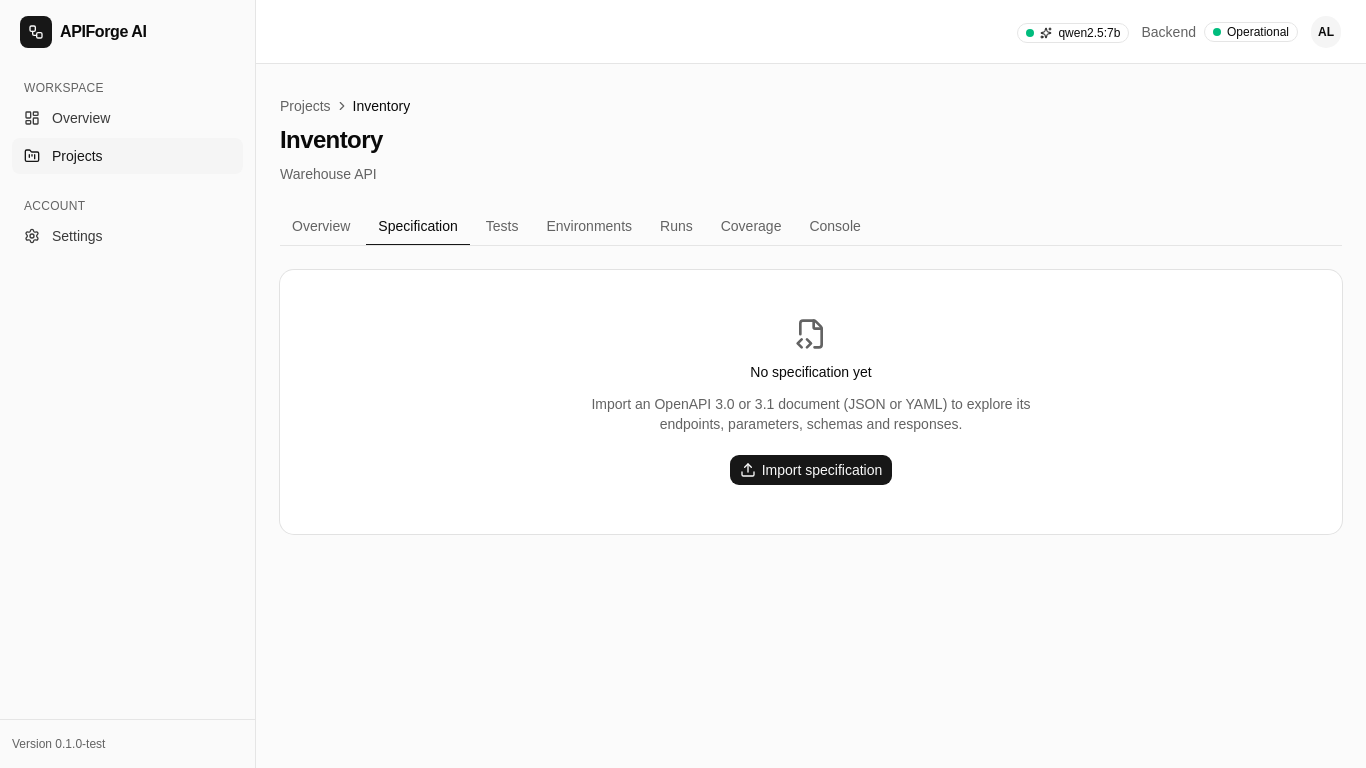
Specification import › shows unexpected failures instead of failing silently
The width and height of the screenshot is (1366, 768).
Click the button "Import specification" at (811, 470), box [729, 454, 893, 486]
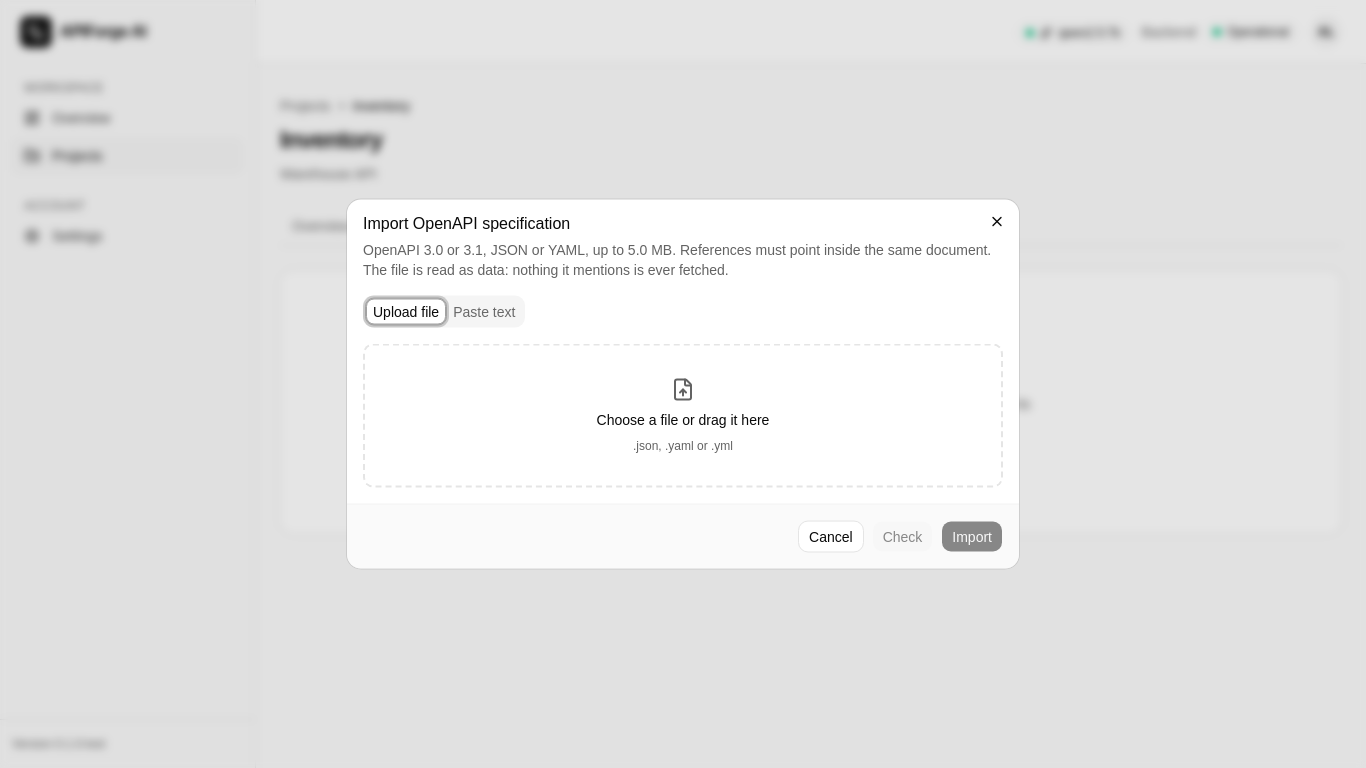
Click the tab "Paste text" at (484, 312), box [446, 298, 522, 324]
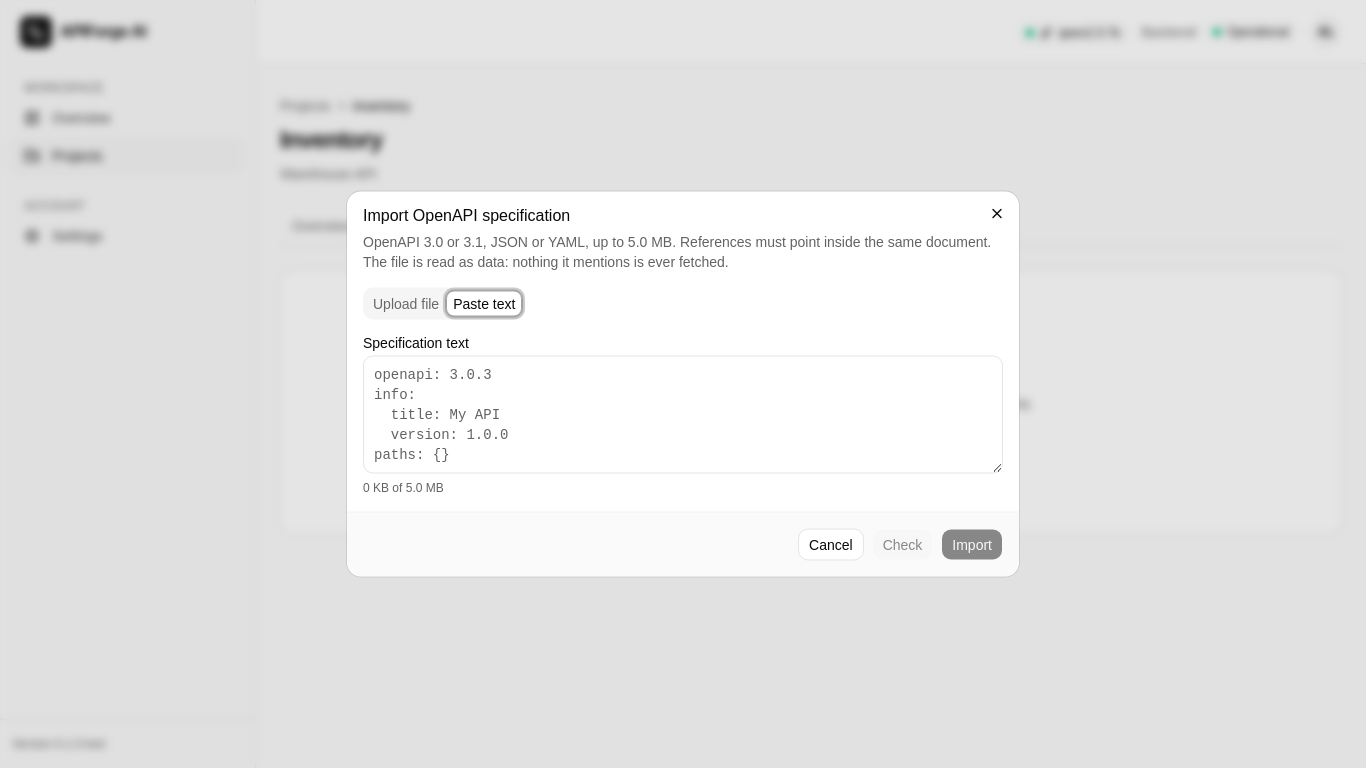
Type "openapi: 3.0.3" into the text box labelled "Specification text" at (683, 414), box [363, 356, 1003, 474]
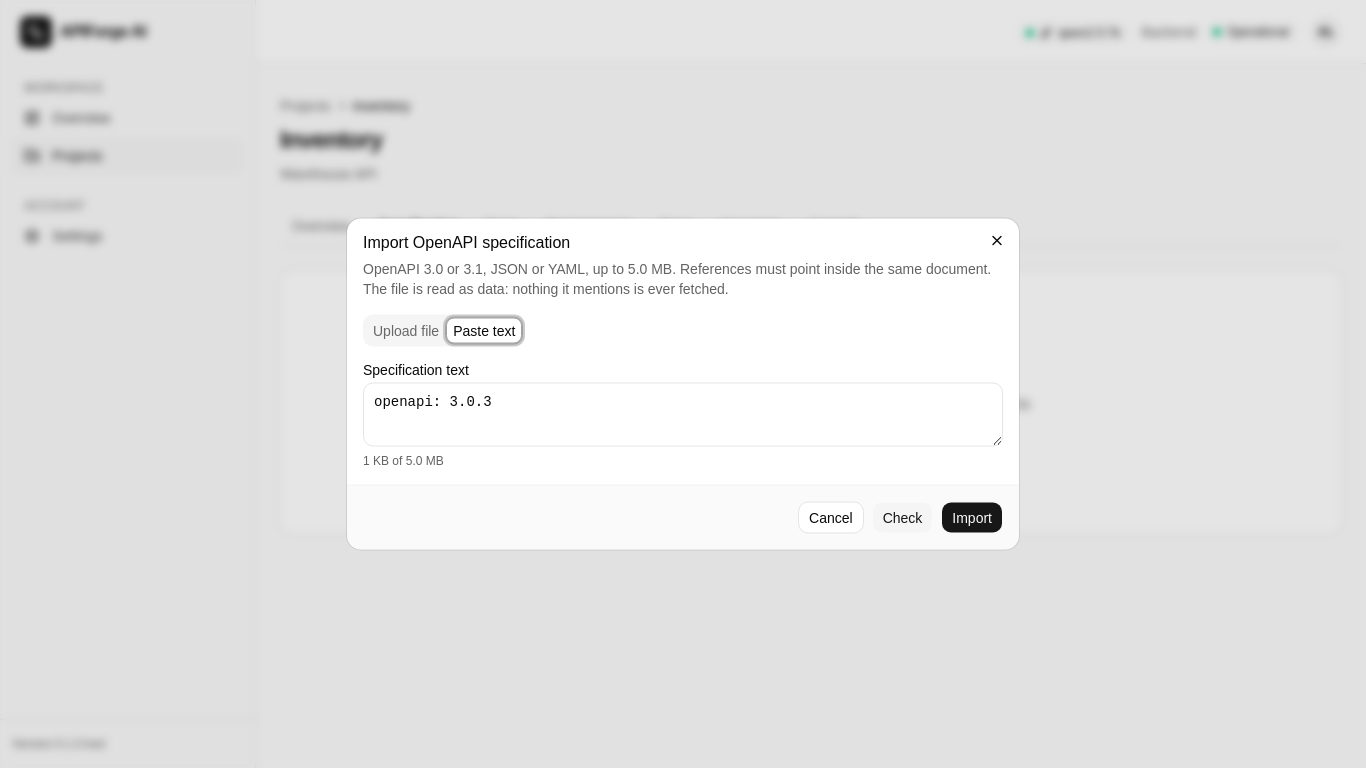
Click the button "Import" at (972, 518), box [941, 502, 1003, 534]
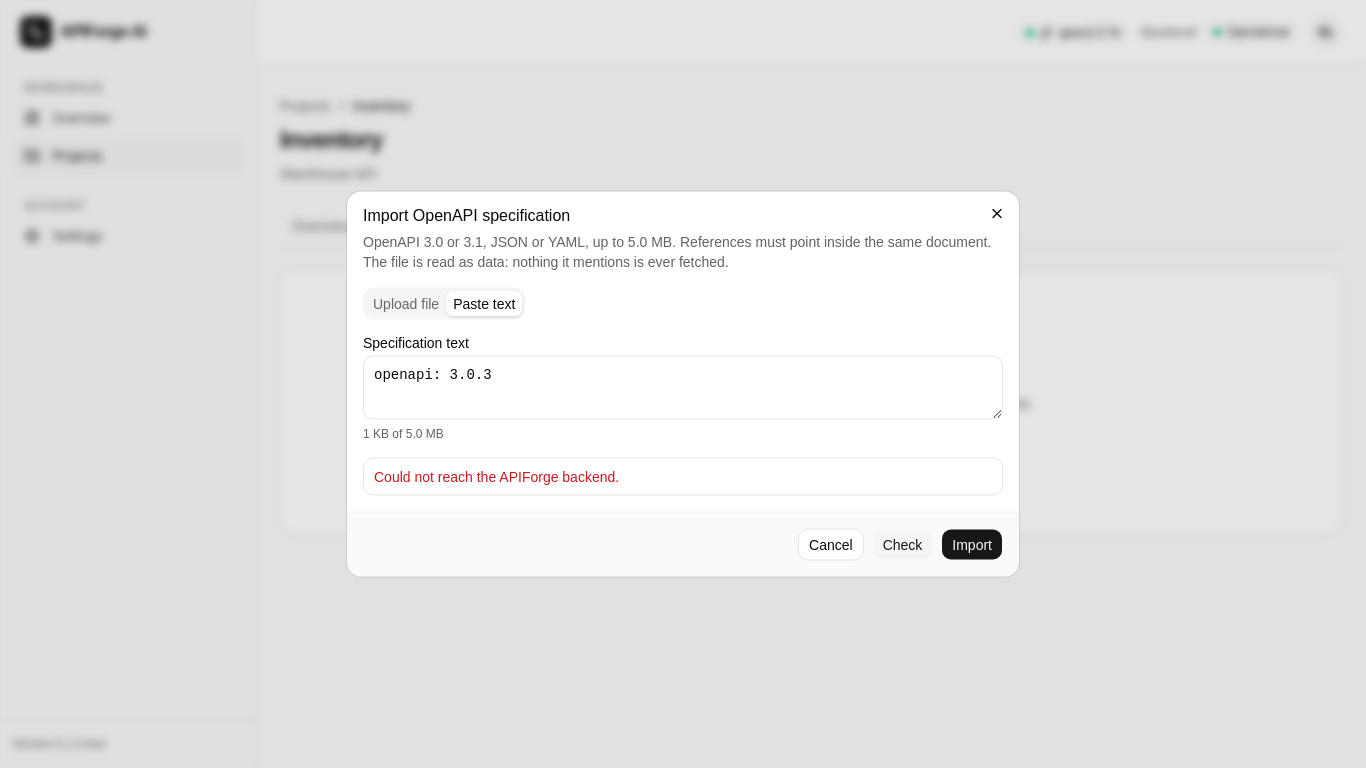
Expected: the text "Could not reach the APIForge backend." is shown, [374, 468, 619, 484]
